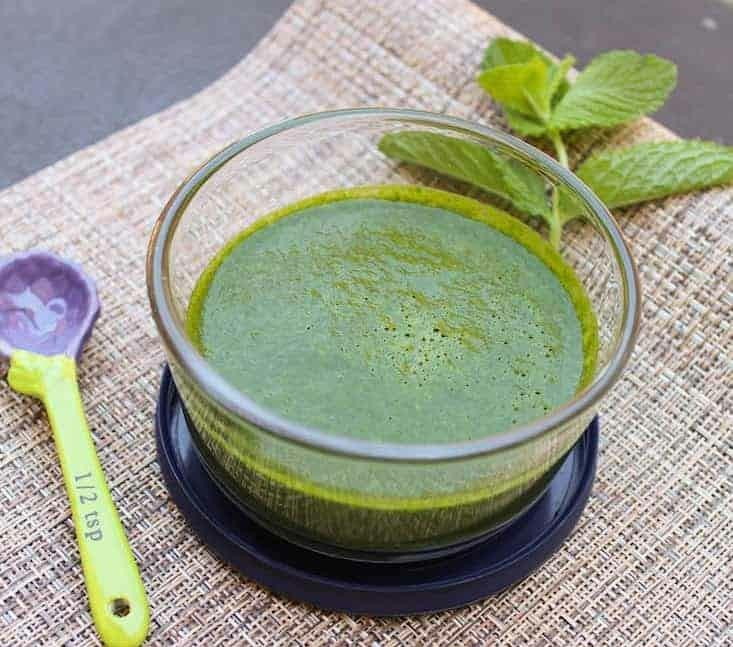GreenChutney: (185, 196, 595, 542)
